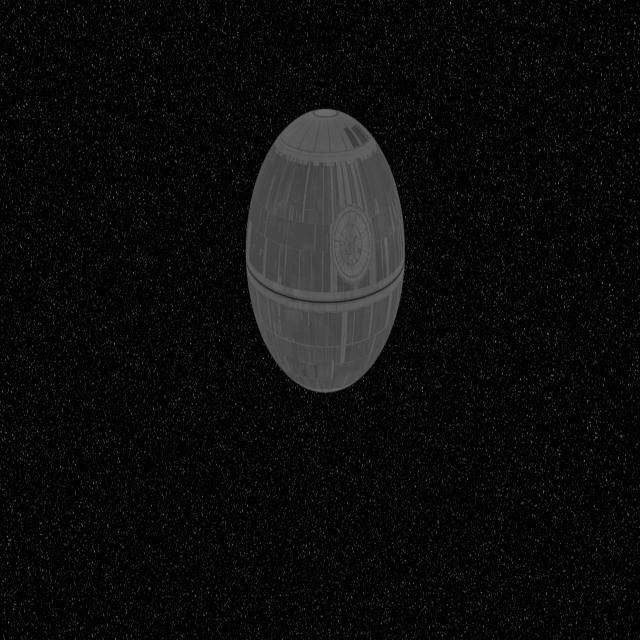death-stars: (245, 109, 405, 395)
